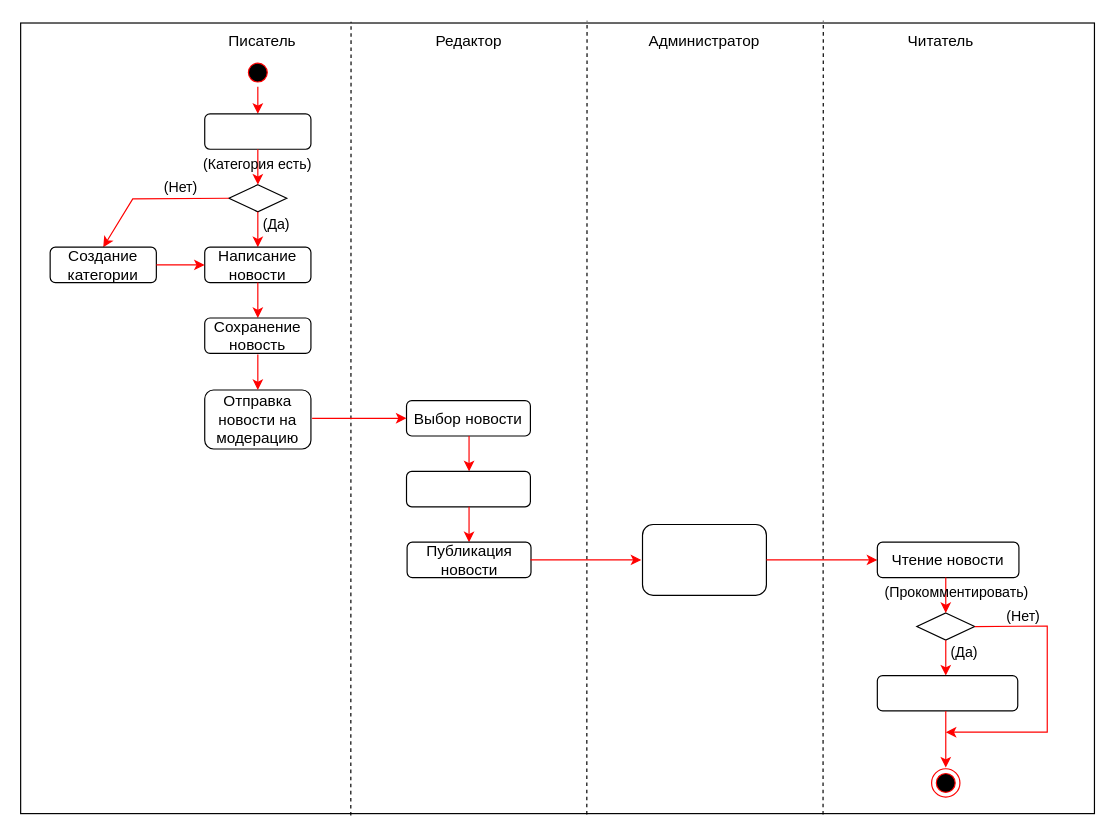
This 1115x838 diagram has some shape labels left out. Each missing label, with the centre of its shape:
Комментирование новости: the point at 947,692
Проверка на соответствие правилам сервиса: the point at 703,559
Редактирование новости: the point at 467,488
Создание записи: the point at 257,131
